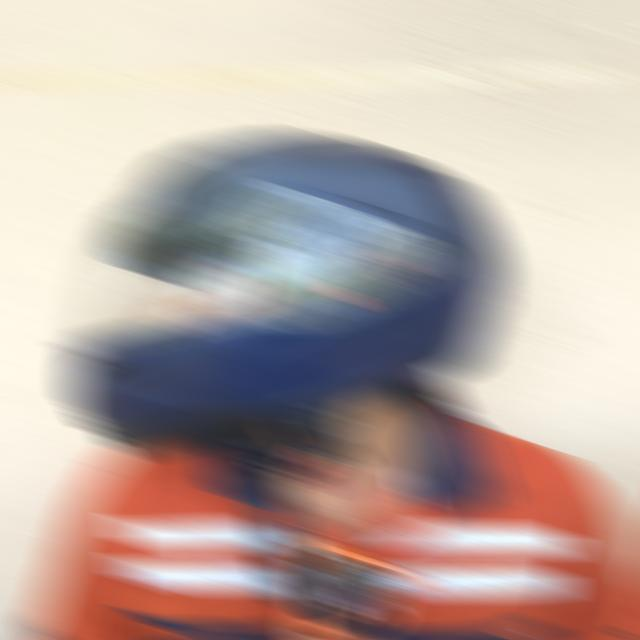With Helmet: (64, 130, 509, 456)
